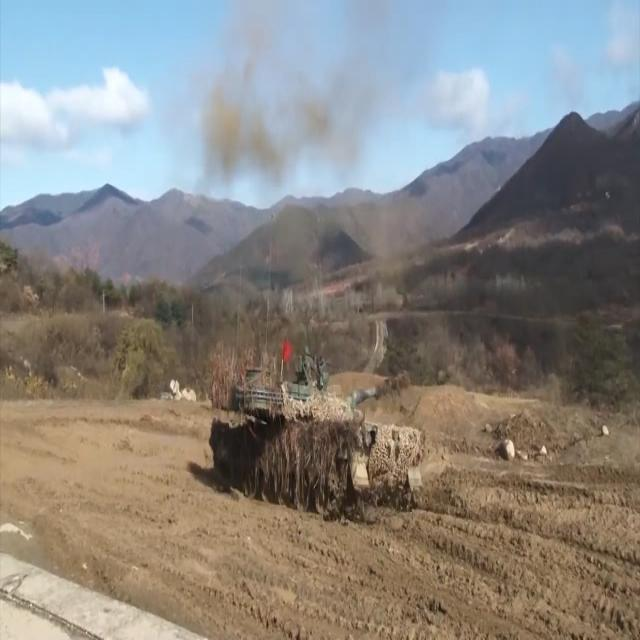korea tank: (208, 343, 430, 518)
